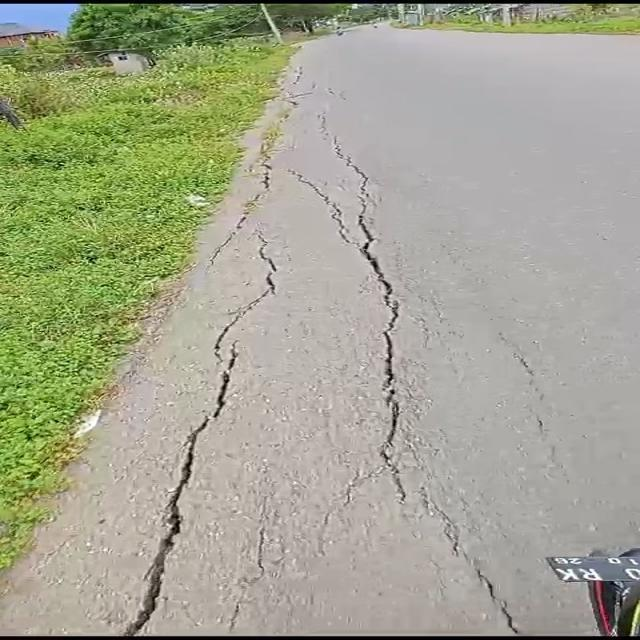Memanjang: (325, 119, 540, 640), (104, 227, 292, 640)
